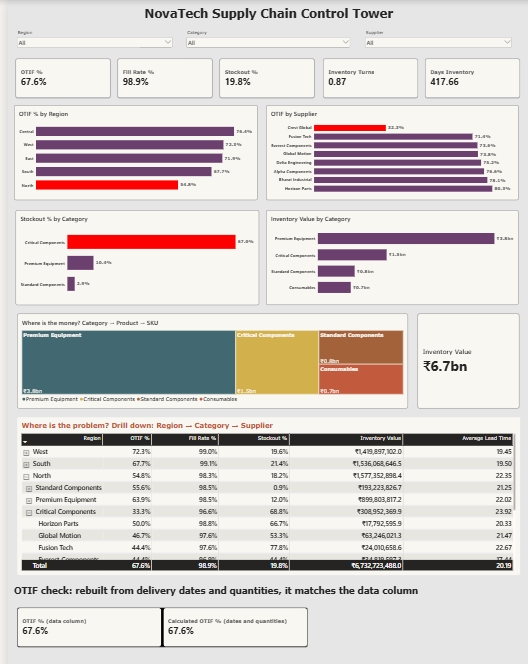

This screenshot's page, from the dashboard's own definition file:
{"tool":"powerbi","page":{"name":"Page 1","canvas":[1920,2500],"ordinal":0},"visuals":[{"type":"cardVisual","fields":{"Data":["KPI Measures.OTIF %"]},"box":[26.2,214.7,350,145.5],"z":0},{"type":"slicer","fields":{"Values":["Supply_Chain_Data.Region"]},"box":[26.2,112.1,582.2,85.9],"z":1000},{"type":"slicer","fields":{"Values":["Supply_Chain_Data.Category"]},"box":[651.8,111.6,613.2,85.9],"z":2000},{"type":"slicer","fields":{"Values":["Supply_Chain_Data.Supplier"]},"box":[1308.3,111.6,551.1,85.9],"z":3000},{"type":"cardVisual","fields":{"Data":["KPI Measures.Fill Rate %"]},"box":[403.2,214.7,350,145.5],"z":4000},{"type":"cardVisual","fields":{"Data":["KPI Measures.Stockout %"]},"box":[780.2,215.5,350,145.5],"z":5000},{"type":"textbox","box":[486.4,21.5,947.2,74],"z":6000},{"type":"cardVisual","fields":{"Data":["KPI Measures.Inventory Turns"]},"box":[1157.2,214.7,350,145.5],"z":7000},{"type":"cardVisual","fields":{"Data":["KPI Measures.Days Inventory"]},"box":[1534.1,214.7,350,145.5],"z":8000},{"type":"clusteredBarChart","fields":{"Category":["Supply_Chain_Data.Region"],"Y":["KPI Measures.OTIF %"]},"box":[23.9,388.9,897.1,350.7],"z":9000},{"type":"clusteredBarChart","title":"OTIF by Supplier","fields":{"Category":["Supply_Chain_Data.Supplier"],"Y":["KPI Measures.OTIF %"]},"box":[952,388.9,930.5,350.7],"z":10000},{"type":"clusteredBarChart","title":"Stockout % by Category","fields":{"Category":["Supply_Chain_Data.Category"],"Y":["KPI Measures.Stockout %"]},"box":[25,772.5,897.1,350.7],"z":11000},{"type":"clusteredBarChart","title":"Inventory Value by Category","fields":{"Category":["Supply_Chain_Data.Category"],"Y":["KPI Measures.Inventory Value (Cr)"]},"box":[952.5,772.5,930,350],"z":12000},{"type":"treemap","title":"Where is the money? Category → Product → SKU","fields":{"Group":["Supply_Chain_Data.Category","Supply_Chain_Data.Product","Supply_Chain_Data.SKU"],"Values":["KPI Measures.Inventory Value (Cr)"]},"box":[32.5,1152.5,1440,350],"z":13000},{"type":"cardVisual","fields":{"Data":["KPI Measures.Inventory Value"]},"box":[1507.5,1152.5,375,350],"z":14000},{"type":"pivotTable","title":"Where is the problem? Drill down: Region → Category → Supplier","fields":{"Rows":["Supply_Chain_Data.Region","Supply_Chain_Data.Category","Supply_Chain_Data.Supplier"],"Values":["KPI Measures.OTIF %","KPI Measures.Fill Rate %","KPI Measures.Stockout %","KPI Measures.Inventory Value","KPI Measures.Average Lead Time"]},"box":[31.7,1534.1,1853.7,582.9],"z":15000},{"type":"cardVisual","fields":{"Data":["KPI Measures.OTIF %","KPI Measures.Calculated OTIF %"]},"box":[31.7,2239,1070.7,146.3],"z":17000},{"type":"textbox","box":[24.4,2156.1,1853.7,46.3],"z":17001}]}

Visuals, with their boxes on the page's 1920x2500 design canvas (x1, y1, x2, y2). These are canvas units, not pixel positions in the 528x664 screenshot, which may show the page scaled, cropped or inside an application window:
cardVisual - KPI Measures.OTIF %: crop(26, 215, 376, 360)
slicer - Supply_Chain_Data.Region: crop(26, 112, 608, 198)
slicer - Supply_Chain_Data.Category: crop(652, 112, 1265, 198)
slicer - Supply_Chain_Data.Supplier: crop(1308, 112, 1859, 198)
cardVisual - KPI Measures.Fill Rate %: crop(403, 215, 753, 360)
cardVisual - KPI Measures.Stockout %: crop(780, 216, 1130, 361)
textbox: crop(486, 22, 1434, 96)
cardVisual - KPI Measures.Inventory Turns: crop(1157, 215, 1507, 360)
cardVisual - KPI Measures.Days Inventory: crop(1534, 215, 1884, 360)
clusteredBarChart - Supply_Chain_Data.Region x KPI Measures.OTIF %: crop(24, 389, 921, 740)
"OTIF by Supplier" clusteredBarChart: crop(952, 389, 1882, 740)
"Stockout % by Category" clusteredBarChart: crop(25, 772, 922, 1123)
"Inventory Value by Category" clusteredBarChart: crop(952, 772, 1882, 1122)
"Where is the money? Category → Product → SKU" treemap: crop(32, 1152, 1472, 1502)
cardVisual - KPI Measures.Inventory Value: crop(1508, 1152, 1882, 1502)
"Where is the problem? Drill down: Region → Category → Supplier" pivotTable: crop(32, 1534, 1885, 2117)
cardVisual - KPI Measures.OTIF % x KPI Measures.Calculated OTIF %: crop(32, 2239, 1102, 2385)
textbox: crop(24, 2156, 1878, 2202)
